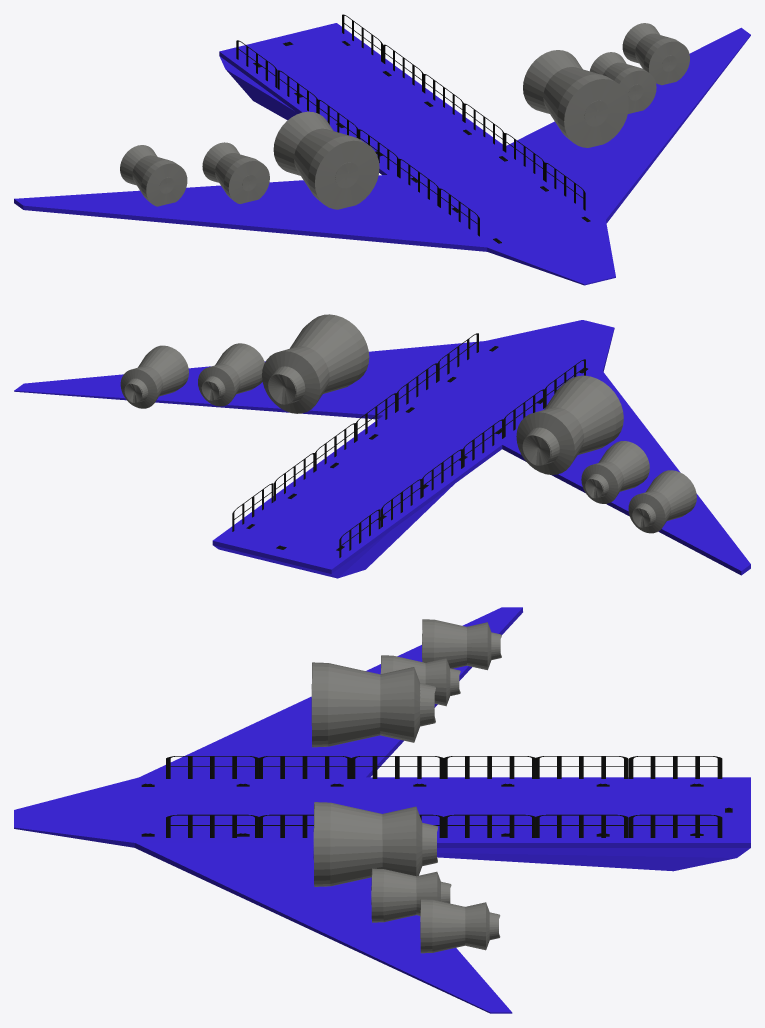
The model's file is cargoShip.fbx.
3 renders of one model, top to bottom at view 1: azimuth 30°, elevation 25°; view 2: azimuth 150°, elevation 25°; view 3: azimuth 270°, elevation 25°, orthographic. The views are drawn at different scales.
Parts seen in each view (by area): view 1: Cube; view 2: Cube; view 3: Cube.
Boxes of the visible parts, x1,y1,x2,y2 form: Cube: (14,14,750,285); Cube: (14,314,750,578); Cube: (14,607,750,1013).
Size of the model in its own units: 2836 by 340 by 2191.
